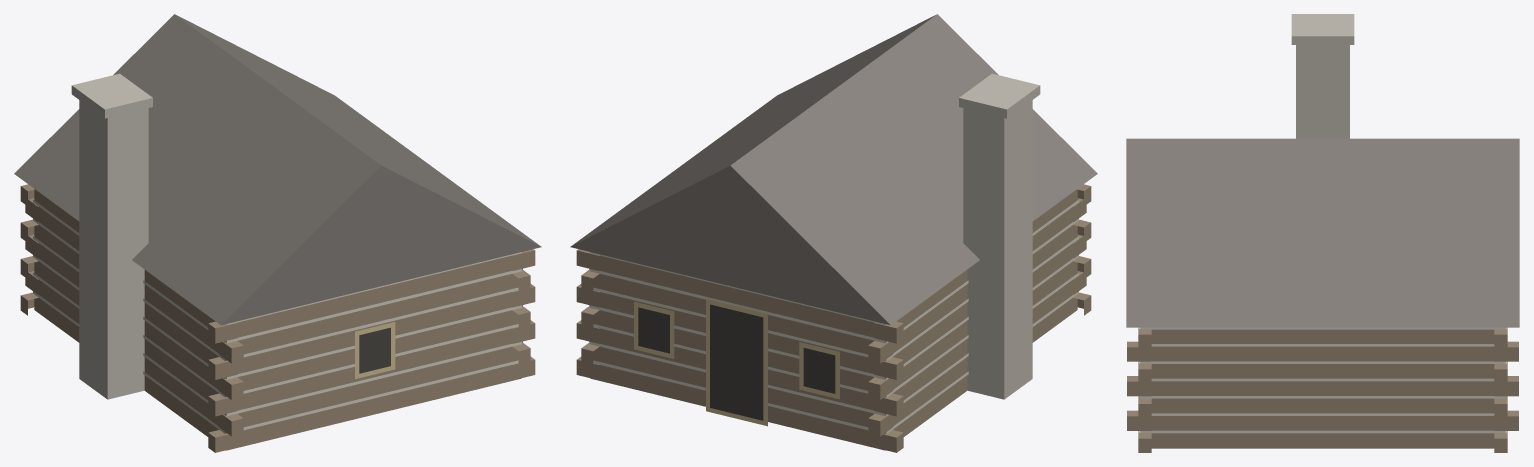
Rendered from recon_1835_north_d1_054__inferred_1835.glb.
3 renders of one model, left to right at view 1: azimuth 30°, elevation 25°; view 2: azimuth 150°, elevation 25°; view 3: azimuth 270°, elevation 25°, orthographic. The views are drawn at different scales.
Parts seen in each view (by area): view 1: recon_1835_north_d1_054__inferred_1835; view 2: recon_1835_north_d1_054__inferred_1835; view 3: recon_1835_north_d1_054__inferred_1835.
Boxes of the visible parts, x1,y1,x2,y2 form: recon_1835_north_d1_054__inferred_1835: (14, 14, 541, 452); recon_1835_north_d1_054__inferred_1835: (570, 14, 1097, 452); recon_1835_north_d1_054__inferred_1835: (1126, 14, 1519, 452).
Size of the model in its own units: 6.84 by 5.54 by 7.01.
